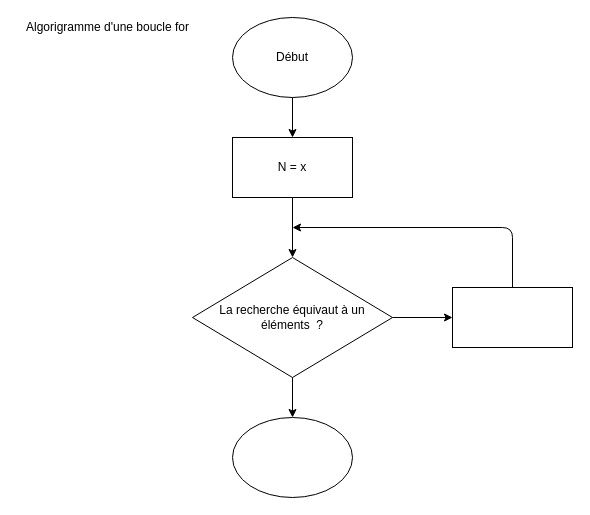
Image size: 590x515. Some labels were removed from this diagram. The shapes that lost their labels are listed below. From the top down, each one's centre as x and y in pixels, then its label:
(x=512, y=317): N = N - 1
(x=292, y=457): FIN
